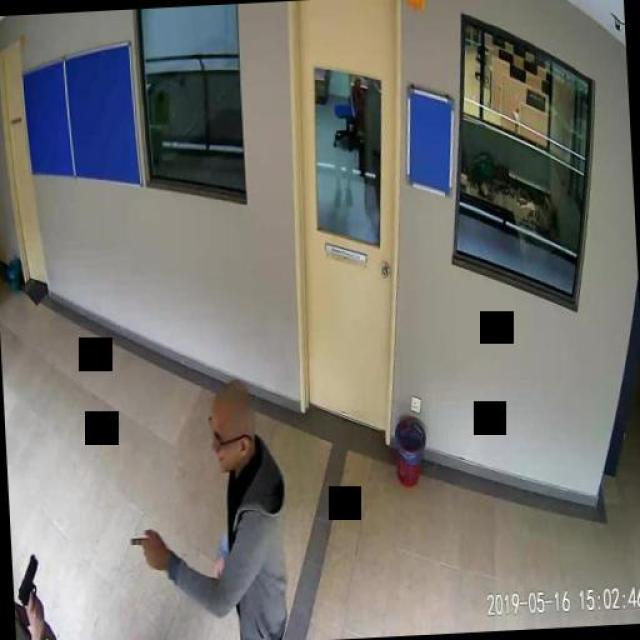gun: (15, 552, 44, 618)
